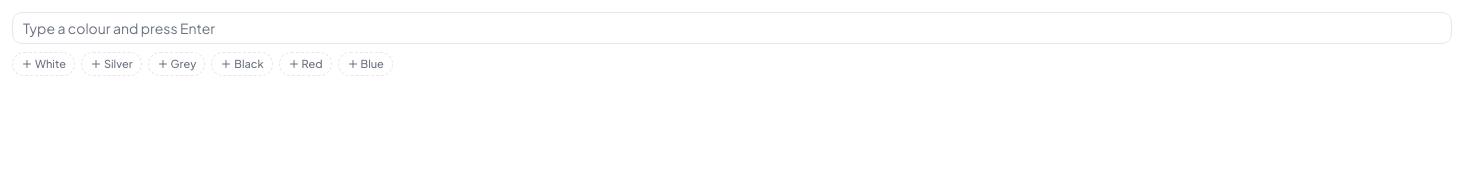
Test: ColourPicker › takes any typed colour on Enter, capitalised
The image size is (1464, 172).
In the field: (732, 28) [12,12,1452,44], type "  pearl   white"
Then press Enter
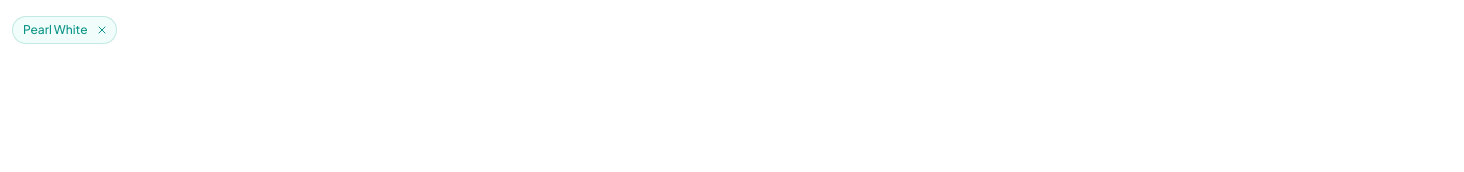
Result: the text "Pearl White" is shown at [12,16,116,44]
